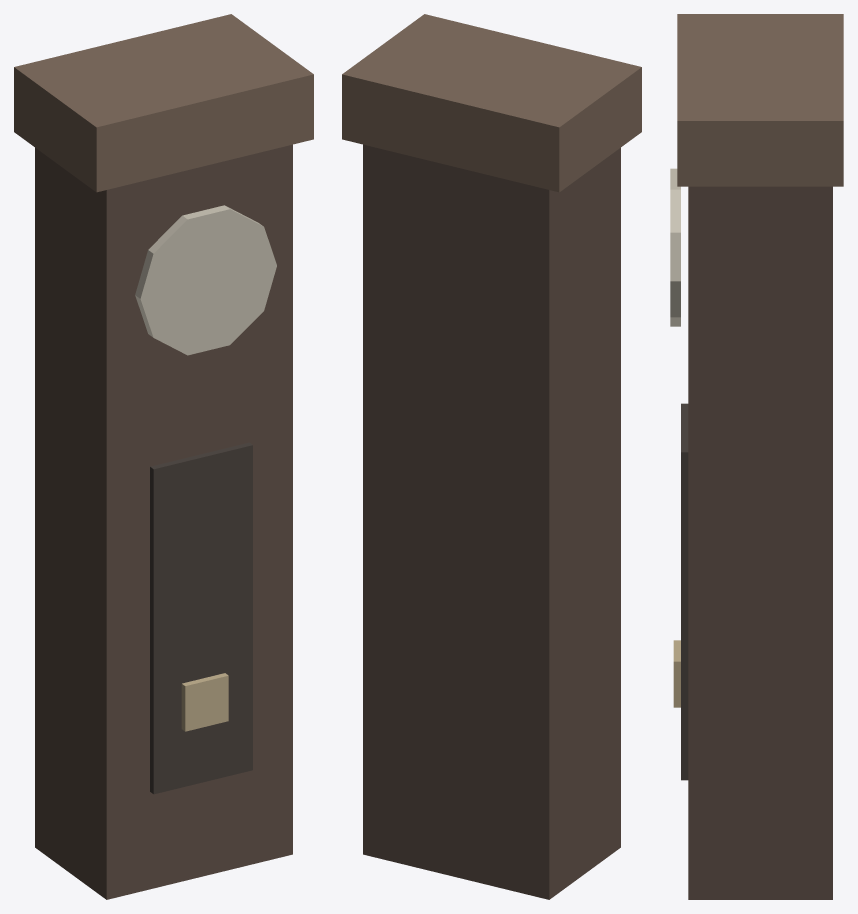
The model's file is reloj_pie.glb.
3 views of the same model, side by side, from view 1: azimuth 30°, elevation 25°; view 2: azimuth 150°, elevation 25°; view 3: azimuth 270°, elevation 25° (orthographic).
Visible parts, largest first — view 1: RelojPie; view 2: RelojPie; view 3: RelojPie.
Part boxes in pixels (x1=…): RelojPie: x1=14, y1=14, x2=313, y2=899; RelojPie: x1=342, y1=14, x2=641, y2=899; RelojPie: x1=670, y1=14, x2=843, y2=899.
Bounding box in the file's own units: 0.7 × 2.4 × 0.48.
